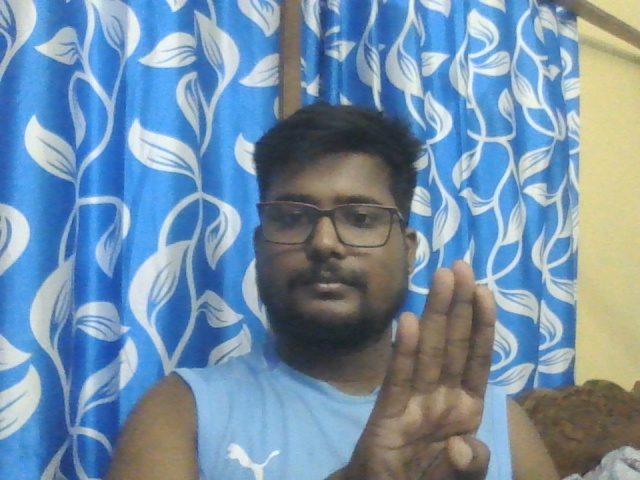B: (354, 260, 493, 480)
